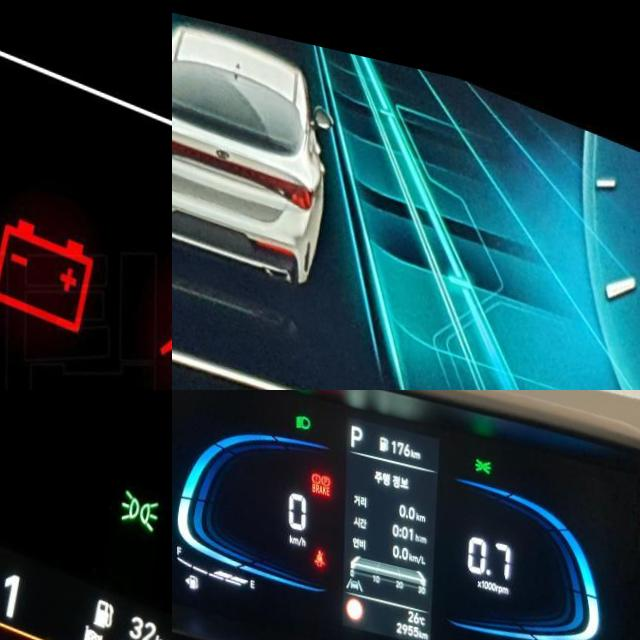Low beam: (296, 401, 311, 419)
SideLamp: (118, 468, 161, 516), (476, 437, 492, 455)
